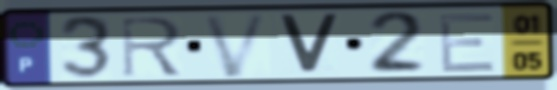2: (365, 9, 429, 78)
3: (58, 13, 115, 82)
E: (435, 10, 499, 75)
R: (118, 14, 185, 80)
V: (200, 11, 274, 80), (274, 12, 344, 77)
